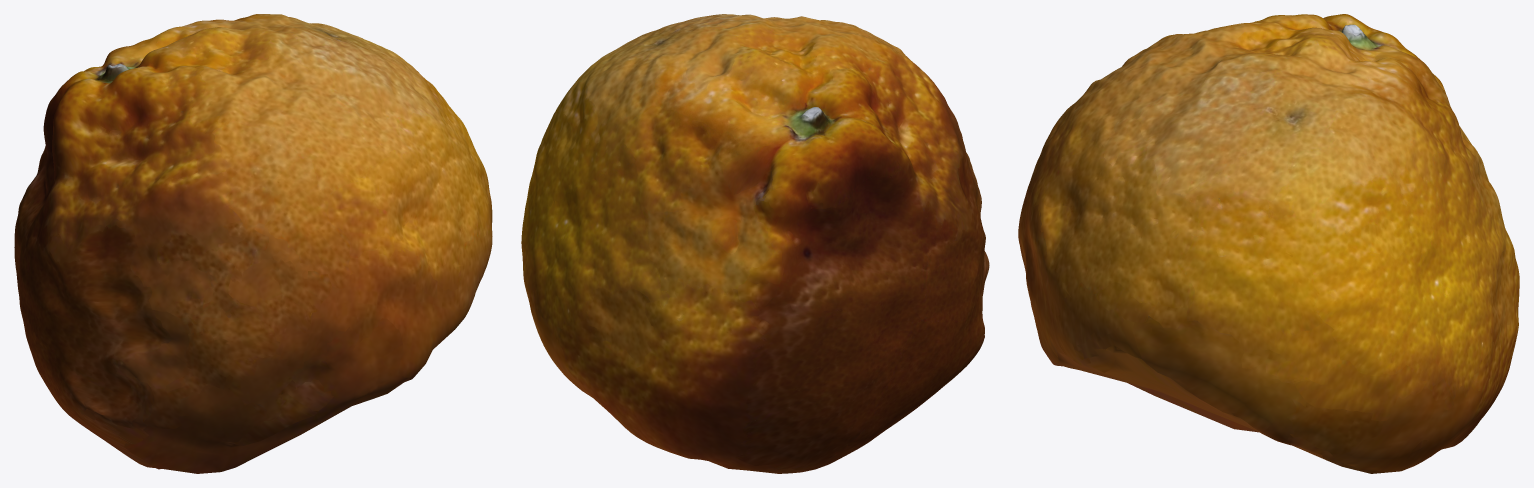
Rendered from asset.glb.
3 views of the same model, side by side, from view 1: azimuth 30°, elevation 25°; view 2: azimuth 150°, elevation 25°; view 3: azimuth 270°, elevation 25° (orthographic). The views are drawn at different scales.
Parts seen in each view (by area): view 1: Mesh_0; view 2: Mesh_0; view 3: Mesh_0.
Boxes of the visible parts, x1,y1,x2,y2 form: Mesh_0: (14, 14, 492, 473); Mesh_0: (521, 14, 989, 473); Mesh_0: (1018, 14, 1519, 473).
Size of the model in its own units: 0.5541 by 0.5078 by 0.536.
1 material, 1 textured.
